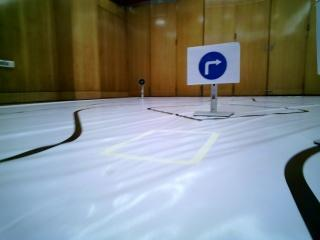right: (190, 49, 241, 82)
